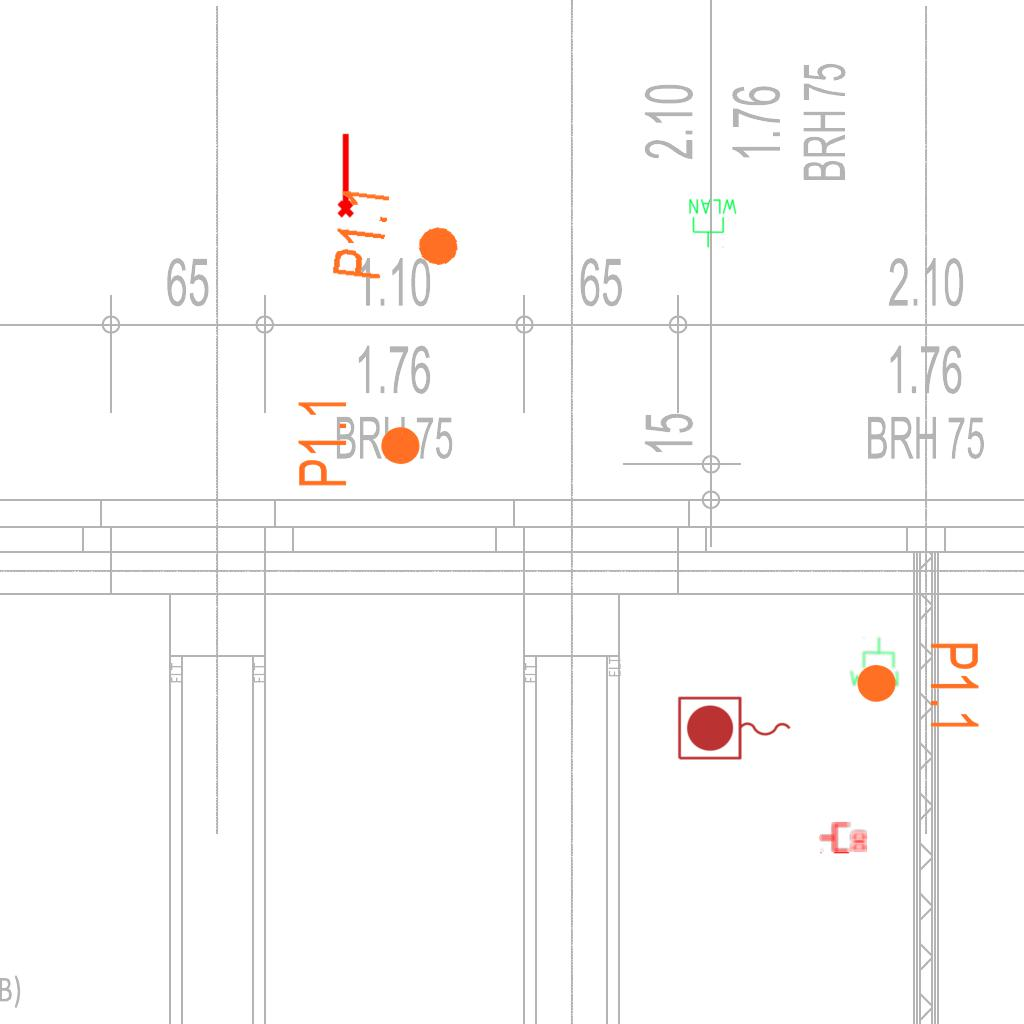ASR_Ansaugoeffnung: (333, 131, 356, 219)
Datenanschluss_zweifach: (818, 820, 869, 854)
Downlight_LED_Einbauleuchten_Flur: (328, 184, 467, 292), (295, 396, 423, 489), (854, 640, 982, 733)
WLAN: (687, 197, 739, 249), (848, 636, 900, 688)
Zugtaster: (674, 693, 796, 765)
